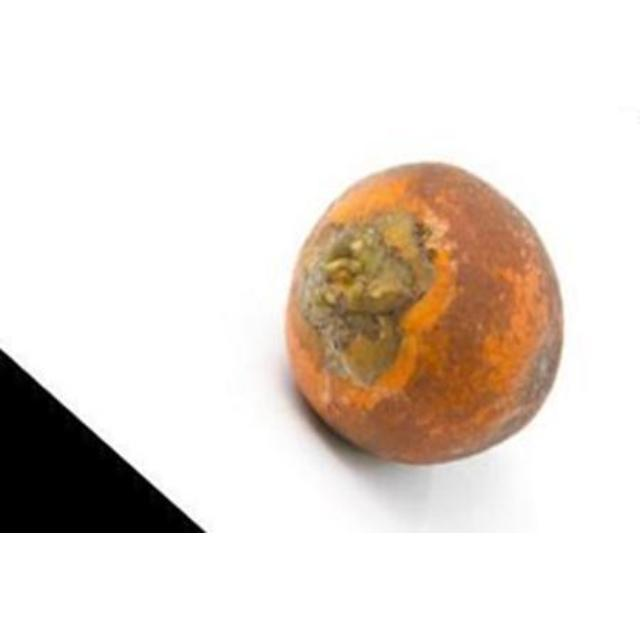good: (284, 165, 565, 468)
